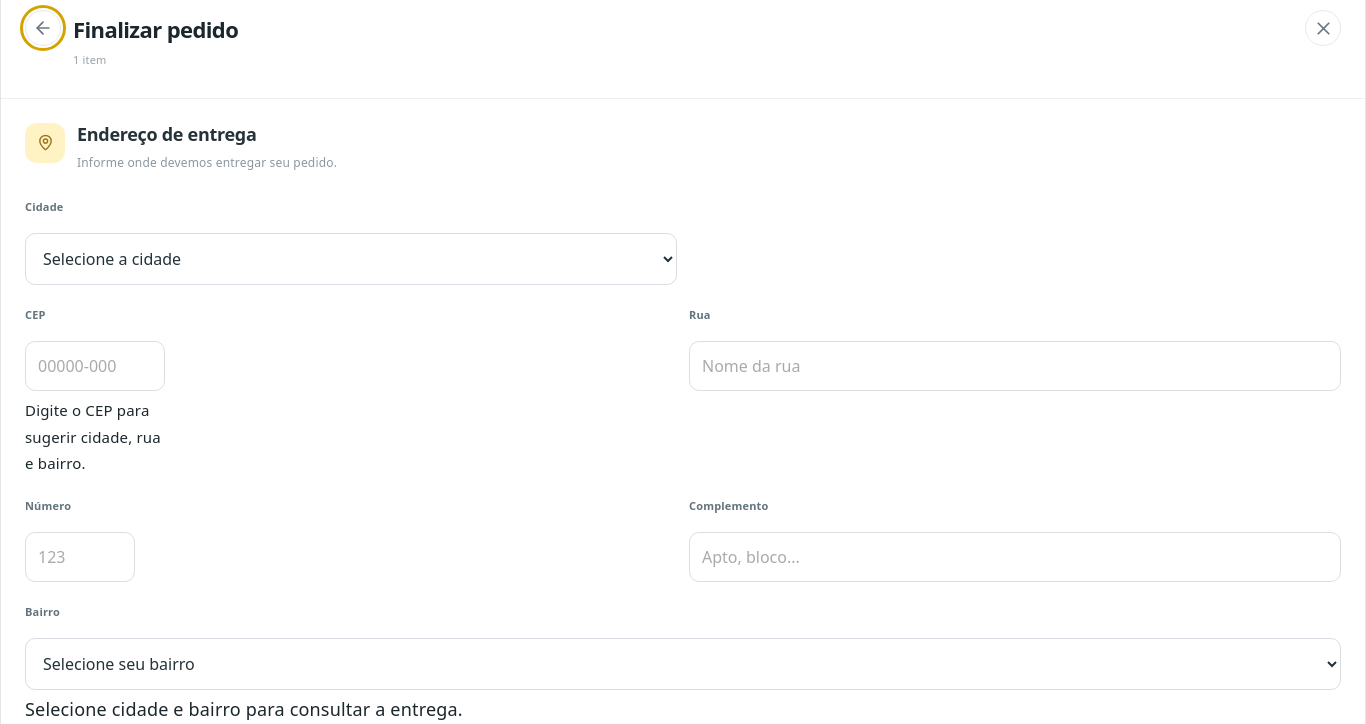
Scenario: CEP sugere rua e bairro cadastrado e permite chegar à forma de pagamento
Type "79300100" into the field labelled "CEP" at {"x": 95, "y": 366}, box [25,341,165,391]
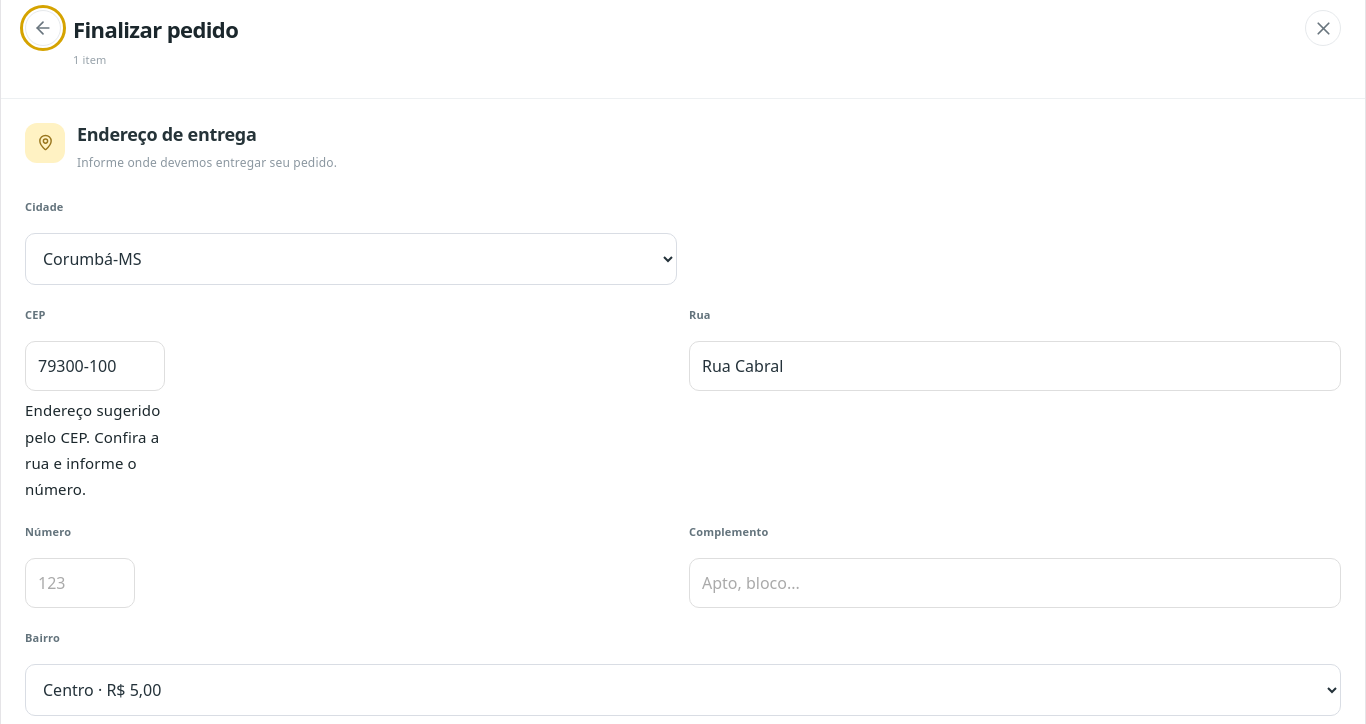
Expected: the field labelled "Rua" holds "Rua Cabral", [689,341,1341,391]
Expected: the dropdown labelled "Bairro" shows "Centro · R$ 5,00", [25,664,1341,716]
Expected: the dropdown labelled "Cidade" shows "Corumbá-MS", [25,233,677,285]
Type "10" into the field labelled "Número" at {"x": 80, "y": 583}, box [25,558,135,608]
(page scrolled)
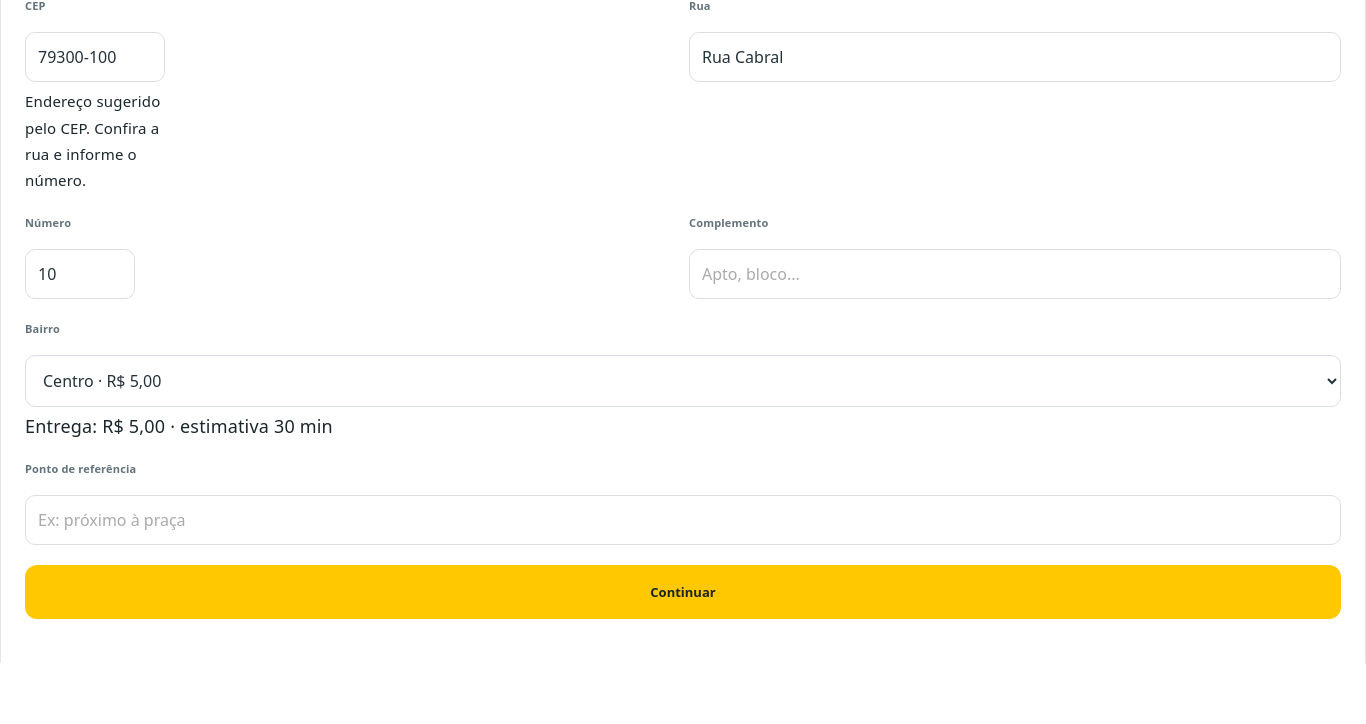
Click the button "Continuar" at {"x": 683, "y": 592}, box [25,565,1341,620]
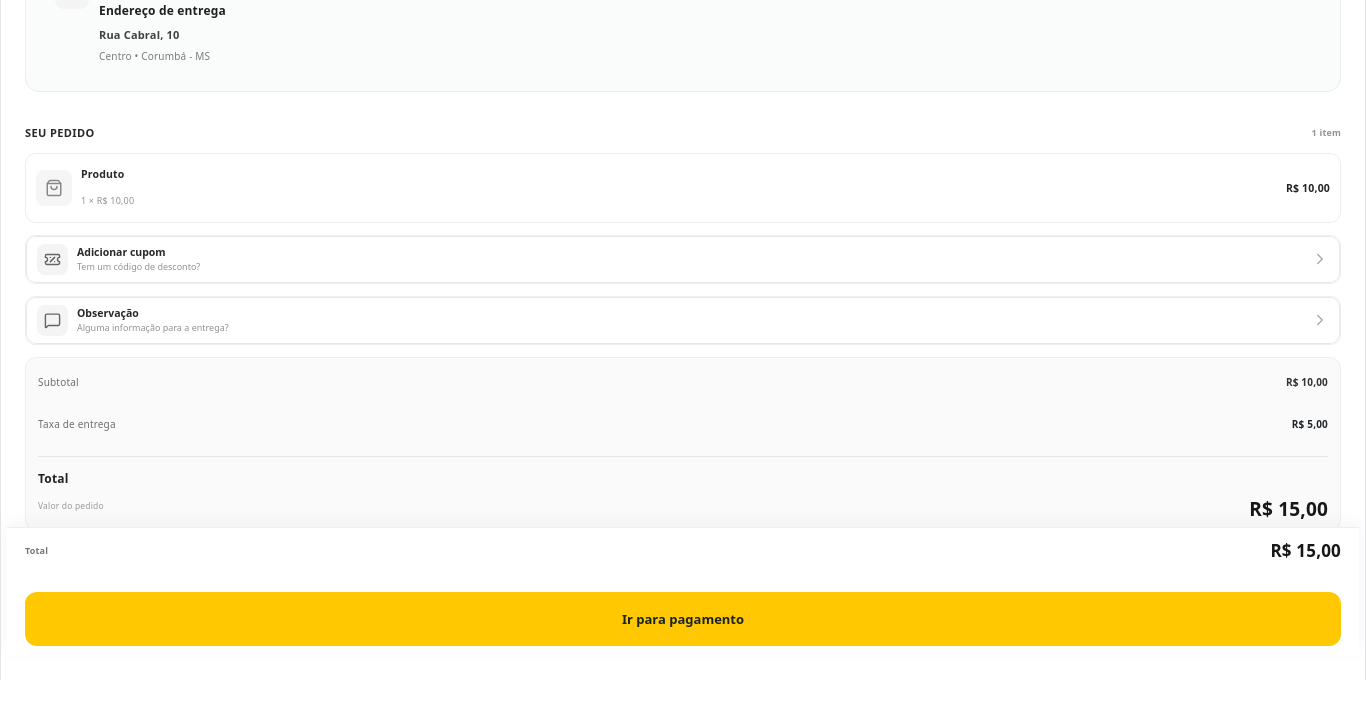
Click the button "Ir para pagamento" at {"x": 683, "y": 619}, box [25,592,1341,646]
(page scrolled)
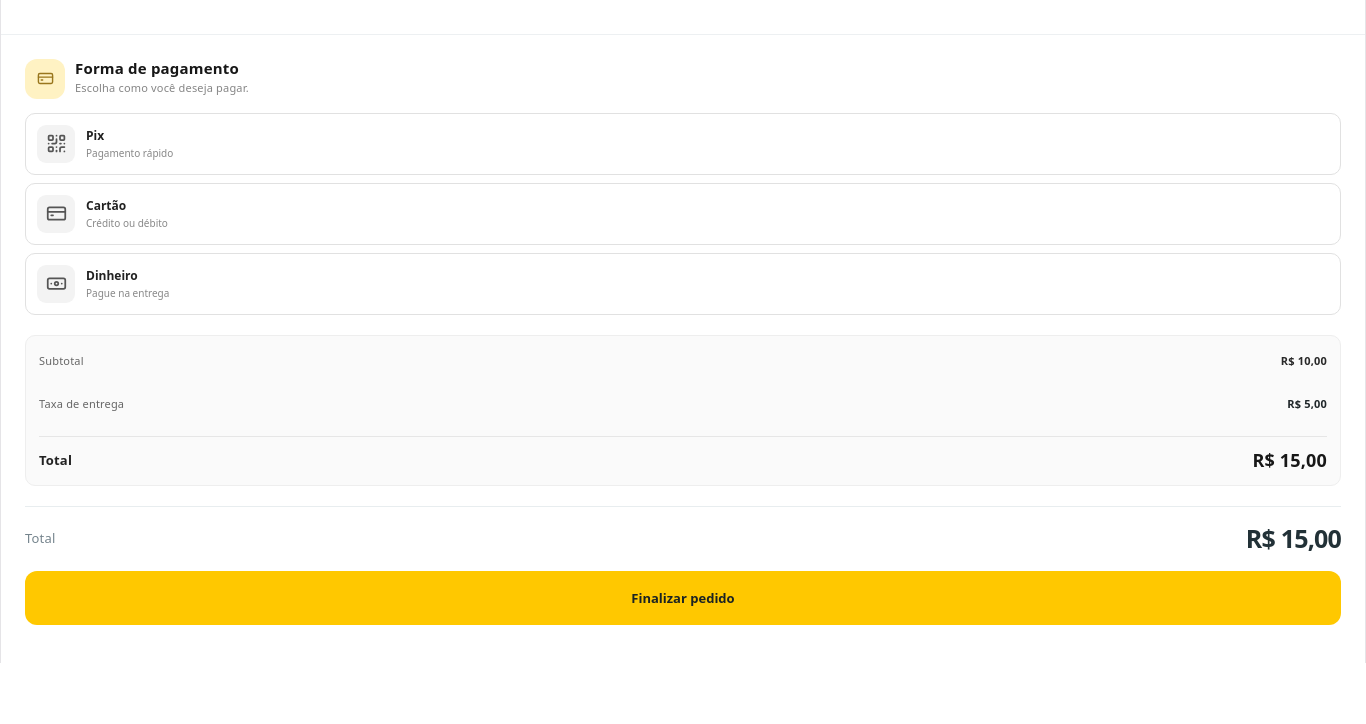
Expected: the heading "Forma de pagamento" is shown, [75,59,249,78]
